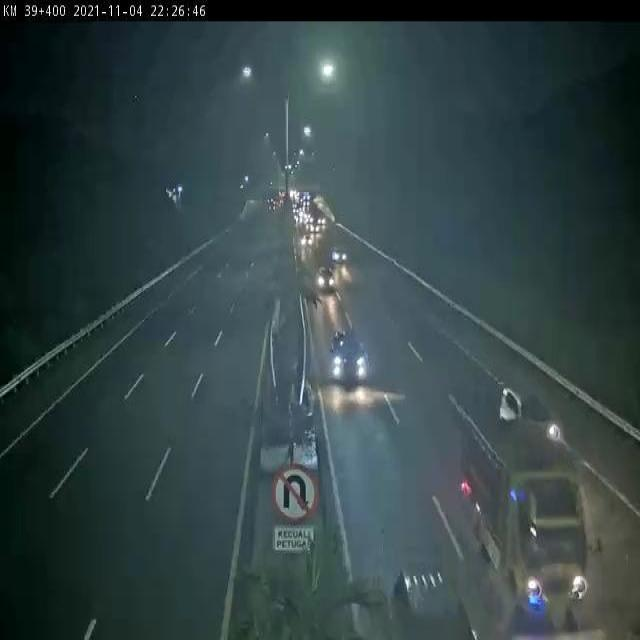Car: (330, 329, 368, 383)
Truck: (457, 414, 588, 603)
